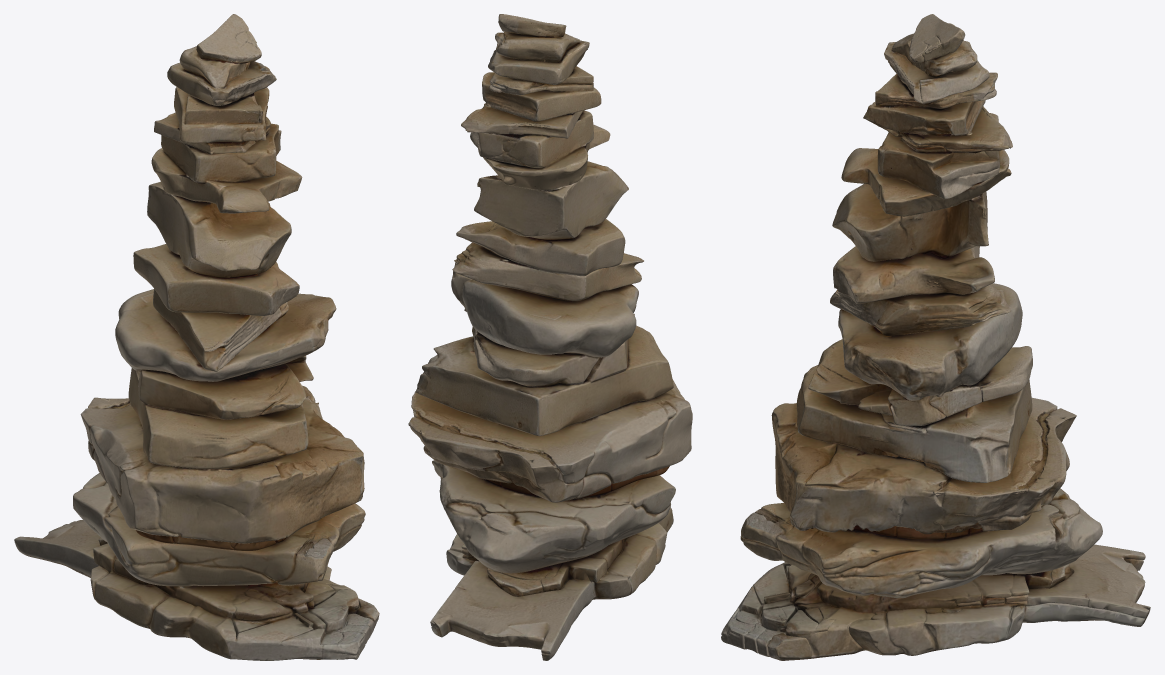
Rendered from dieshi1-v1.glb.
The picture shows the model from 3 angles, left to right: view 1: azimuth 30°, elevation 25°; view 2: azimuth 150°, elevation 25°; view 3: azimuth 270°, elevation 25°; orthographic projection. The views are drawn at different scales.
Visible parts, largest first — view 1: tripo_node_776c5d75-fa2b-4c54-af24-061221e1a576; view 2: tripo_node_776c5d75-fa2b-4c54-af24-061221e1a576; view 3: tripo_node_776c5d75-fa2b-4c54-af24-061221e1a576.
Part boxes in pixels (left/top/right/bottom): tripo_node_776c5d75-fa2b-4c54-af24-061221e1a576: left=14, top=14, right=379, bottom=660; tripo_node_776c5d75-fa2b-4c54-af24-061221e1a576: left=408, top=14, right=692, bottom=660; tripo_node_776c5d75-fa2b-4c54-af24-061221e1a576: left=721, top=14, right=1150, bottom=660.
Bounding box in the file's own units: 0.4146 × 0.9782 × 0.6279.
Materials: 1 (1 with a texture image).
